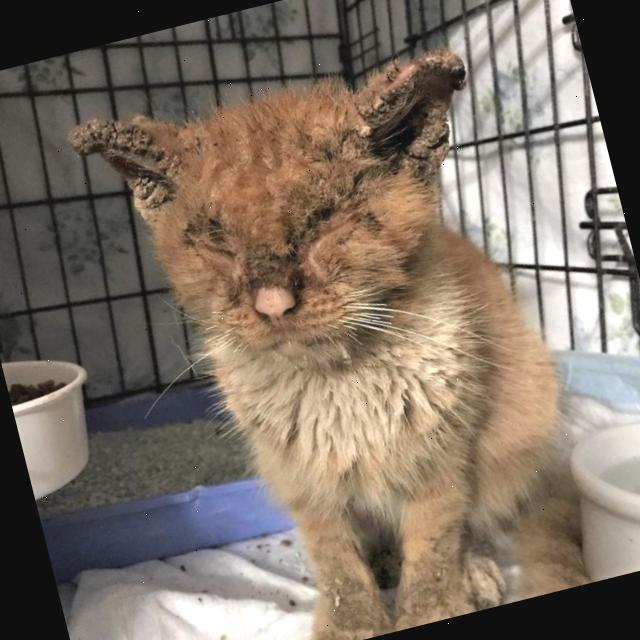cat-scabies: (312, 37, 496, 202), (63, 85, 221, 254), (248, 238, 287, 273)
